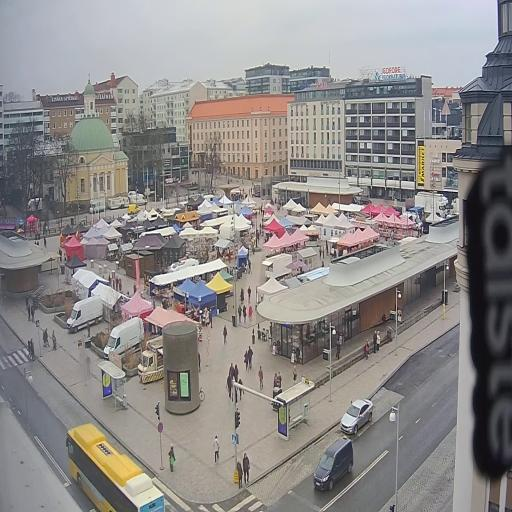bus: (66, 423, 165, 512)
car: (313, 436, 354, 490), (340, 399, 373, 434)
delivery: (103, 317, 144, 359), (67, 296, 103, 332), (138, 336, 163, 383), (415, 191, 449, 217)
